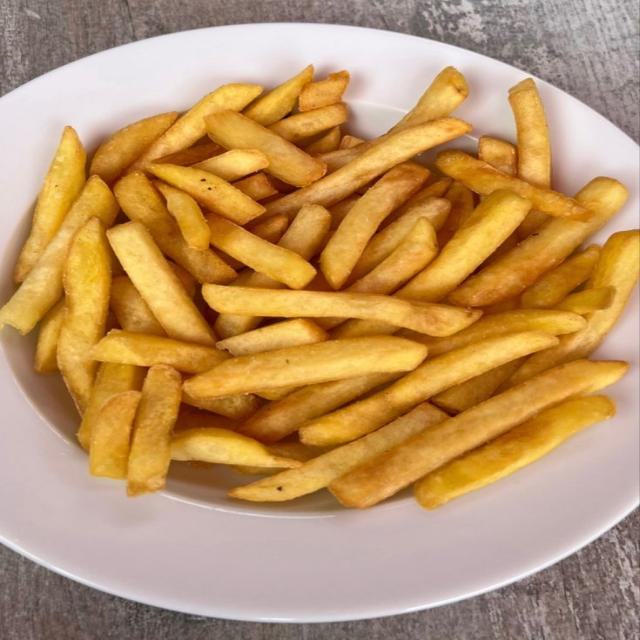potato fries: (0, 66, 639, 508), (330, 361, 627, 508), (300, 332, 558, 445), (449, 178, 627, 305), (415, 396, 615, 508), (230, 403, 448, 501), (505, 230, 639, 387), (267, 118, 471, 215), (0, 177, 118, 334), (322, 67, 468, 172), (185, 336, 426, 398), (398, 190, 530, 301), (203, 285, 478, 335), (320, 163, 429, 289), (115, 172, 236, 283), (108, 222, 215, 345), (128, 84, 262, 172), (239, 373, 401, 442), (14, 127, 86, 282), (436, 150, 590, 221), (57, 218, 111, 414), (205, 110, 325, 186), (401, 310, 586, 357), (208, 216, 316, 289), (352, 198, 450, 277), (127, 365, 182, 497), (347, 217, 437, 294), (345, 219, 437, 294), (148, 165, 264, 224), (89, 112, 178, 185), (90, 330, 229, 373), (78, 363, 144, 450), (431, 357, 525, 415), (171, 428, 300, 468), (390, 67, 468, 132), (521, 245, 599, 308), (509, 79, 551, 188), (89, 391, 141, 479), (243, 65, 314, 126), (216, 319, 328, 356), (381, 178, 452, 229), (155, 182, 209, 249), (110, 276, 166, 336), (269, 102, 348, 143), (278, 205, 330, 260), (192, 149, 269, 182), (438, 181, 474, 246), (34, 298, 64, 373), (182, 392, 258, 420), (299, 71, 350, 112), (153, 142, 224, 166), (556, 286, 615, 314), (479, 136, 517, 176), (174, 409, 239, 432), (233, 173, 277, 201), (247, 215, 289, 243), (328, 194, 361, 229), (267, 443, 325, 462), (305, 127, 341, 155), (339, 135, 364, 149)
